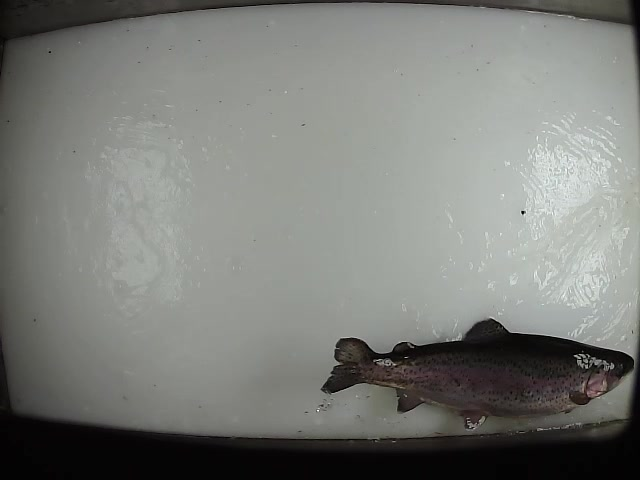fish: (319, 314, 638, 433)
